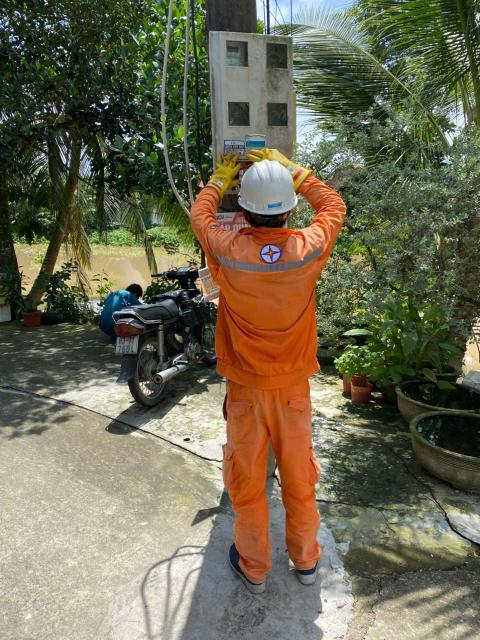gloves: (243, 146, 315, 187), (201, 147, 239, 201)
helmet: (240, 163, 299, 220)
shoes: (219, 529, 280, 610), (286, 536, 334, 597)
